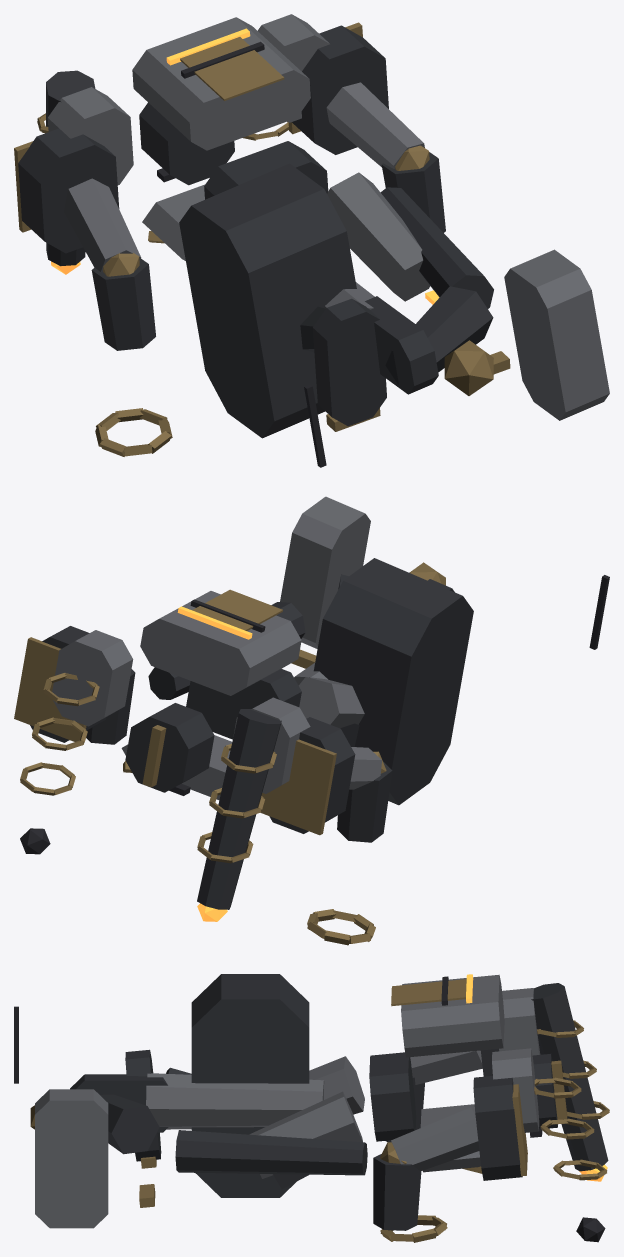
Rendered from Wreck_Aegis_Colossus.fbx.
3 views of the same model, one above another, from view 1: azimuth 30°, elevation 25°; view 2: azimuth 150°, elevation 25°; view 3: azimuth 270°, elevation 25° (orthographic). The views are drawn at different scales.
Visible parts, largest first — view 1: Wreck_Aegis_Colossus; view 2: Wreck_Aegis_Colossus; view 3: Wreck_Aegis_Colossus.
Part boxes in pixels (x1,y1,x2,y2): Wreck_Aegis_Colossus: [14, 14, 609, 467]; Wreck_Aegis_Colossus: [14, 496, 609, 945]; Wreck_Aegis_Colossus: [14, 974, 609, 1242].
Bounding box in the file's own units: 3.24 × 3.04 × 5.48.
